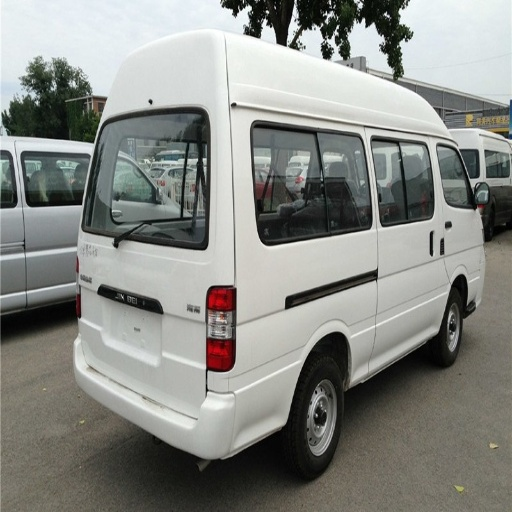back_bumper: (76, 354, 288, 459)
trunk: (87, 225, 377, 416)
